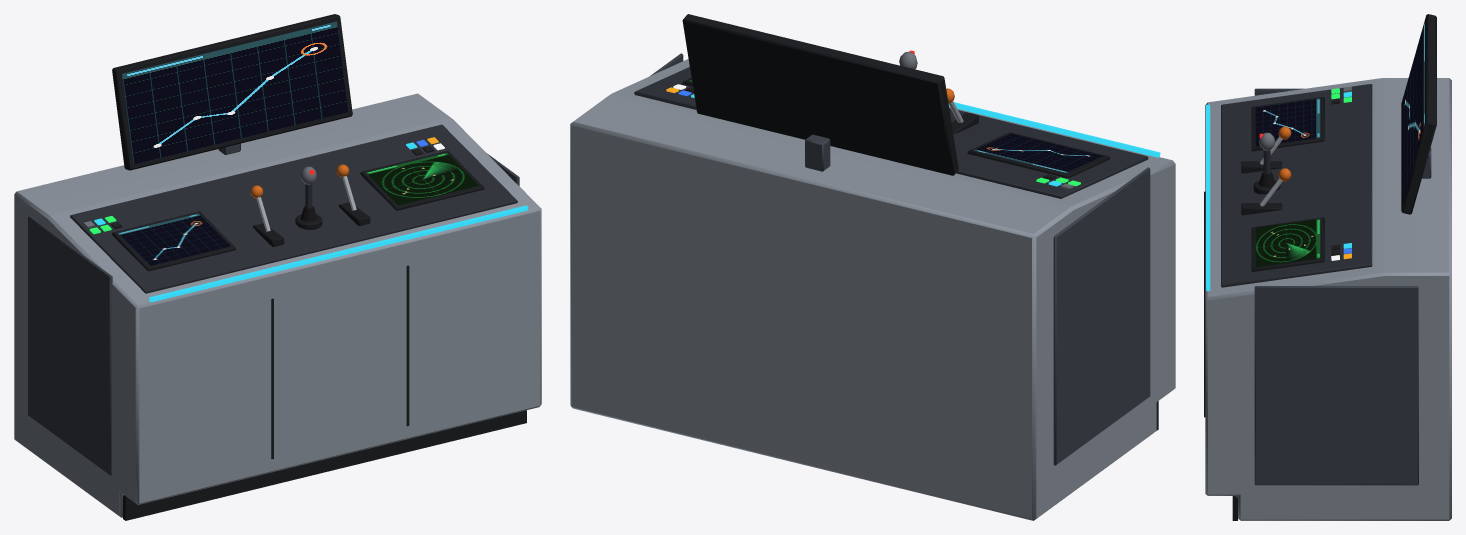
File: console_helm.glb
3 views of the same model, side by side, from view 1: azimuth 30°, elevation 25°; view 2: azimuth 150°, elevation 25°; view 3: azimuth 270°, elevation 25° (orthographic). The views are drawn at different scales.
Parts seen in each view (by area): view 1: console_helm; view 2: console_helm; view 3: console_helm.
Part boxes in pixels (x1,y1,x2,y2): console_helm: (14, 14, 541, 520); console_helm: (570, 14, 1175, 520); console_helm: (1204, 14, 1451, 520).
Size of the model in its own units: 1.72 by 1.43 by 0.904.
17 materials, 2 textured.
